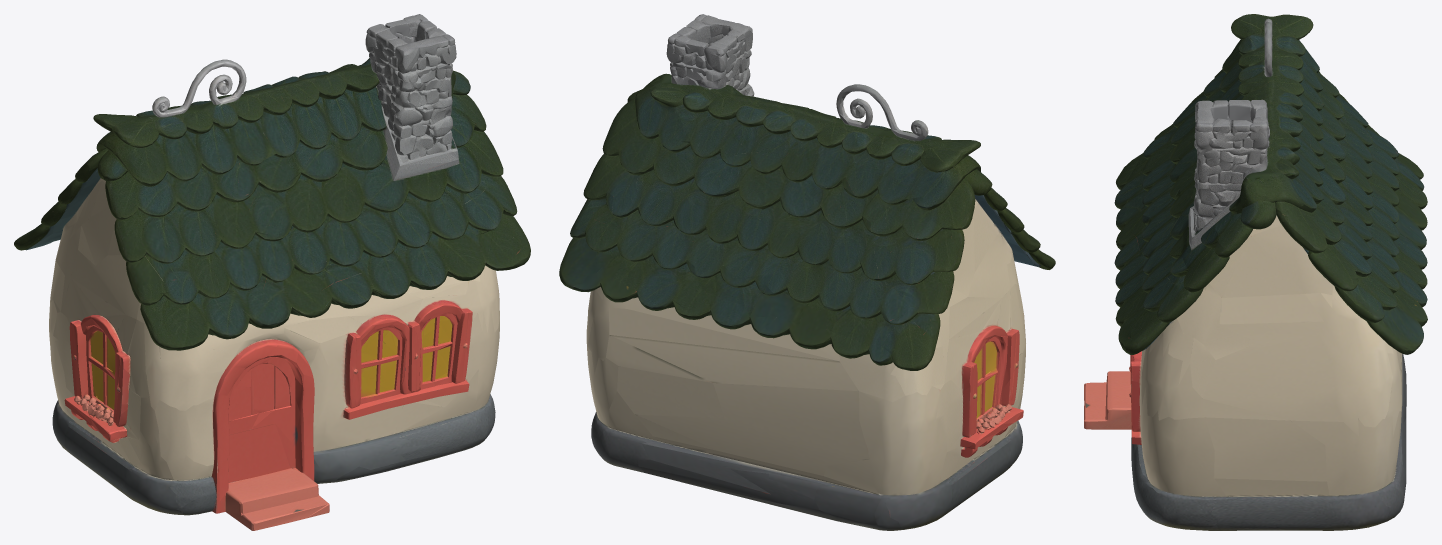
Rendered from meshy-1795542701113.glb.
The picture shows the model from 3 angles, left to right: view 1: azimuth 30°, elevation 25°; view 2: azimuth 150°, elevation 25°; view 3: azimuth 270°, elevation 25°; orthographic projection. The views are drawn at different scales.
Size of the model in its own units: 1.9 by 1.84 by 1.46.
1 material, 1 textured.
